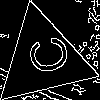C: (18, 33, 71, 79)
